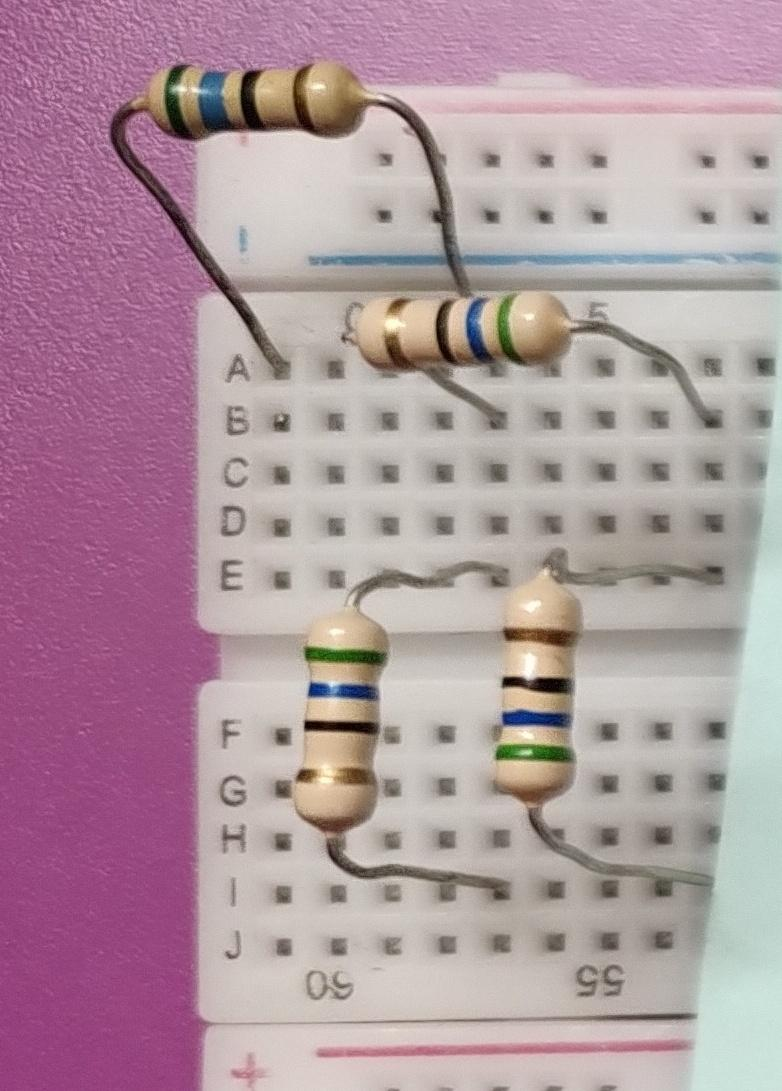resistor: (285, 597, 394, 838), (487, 573, 589, 812), (131, 51, 374, 149), (339, 283, 587, 378)
